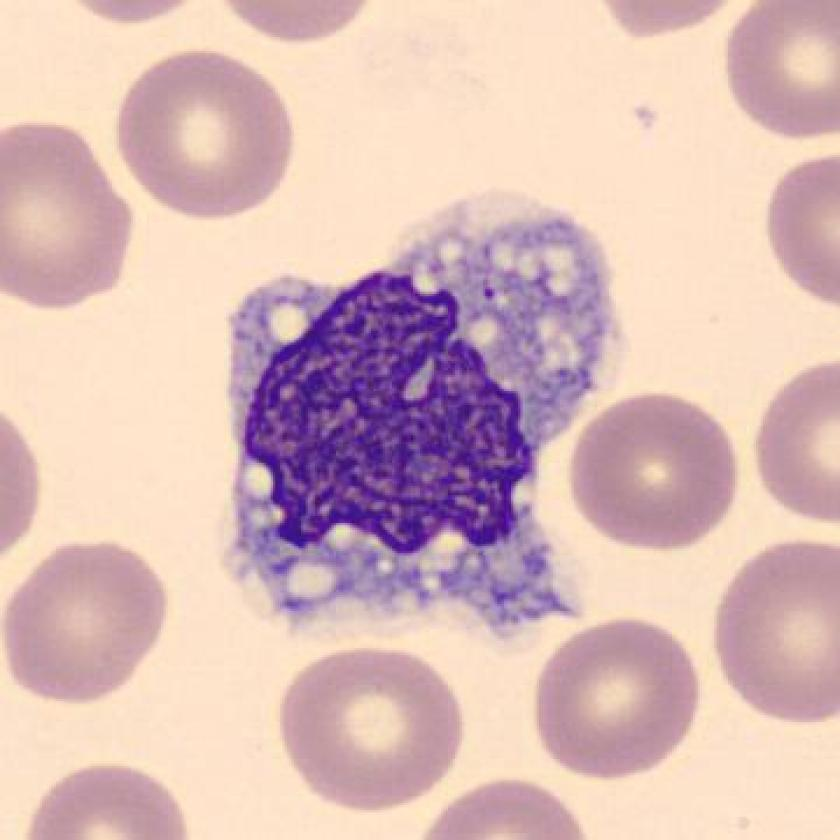monocyte: (197, 177, 638, 653)
